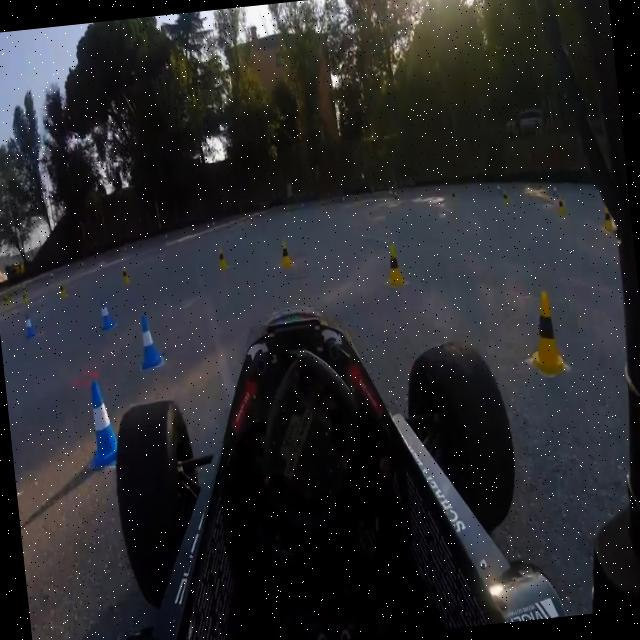blue_cone: (76, 371, 120, 470), (134, 309, 162, 372), (94, 294, 118, 332), (20, 310, 38, 342)
yellow_cone: (522, 285, 568, 379), (382, 242, 406, 290), (276, 232, 294, 270), (600, 198, 614, 240), (117, 253, 132, 291), (216, 240, 229, 274), (553, 184, 567, 215), (20, 290, 30, 306)
